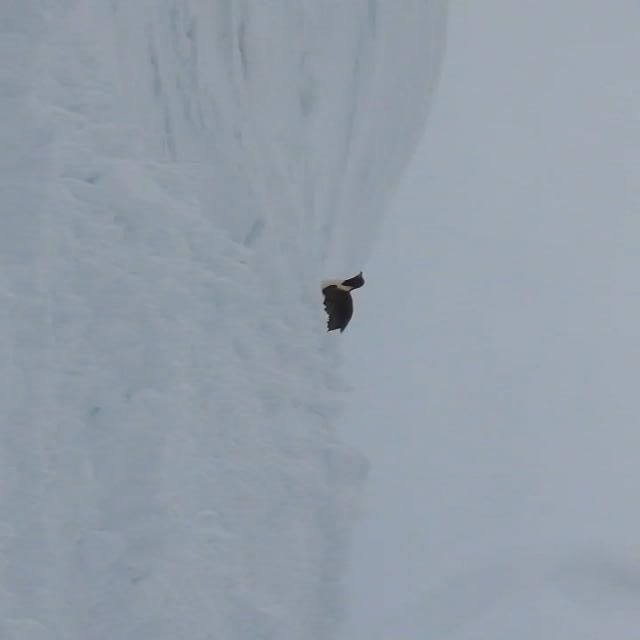penguin: (321, 271, 367, 332)
